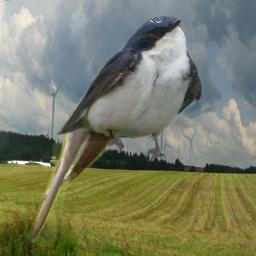Cuckoo: (25, 33, 179, 247)
Swallow: (56, 15, 203, 162)
